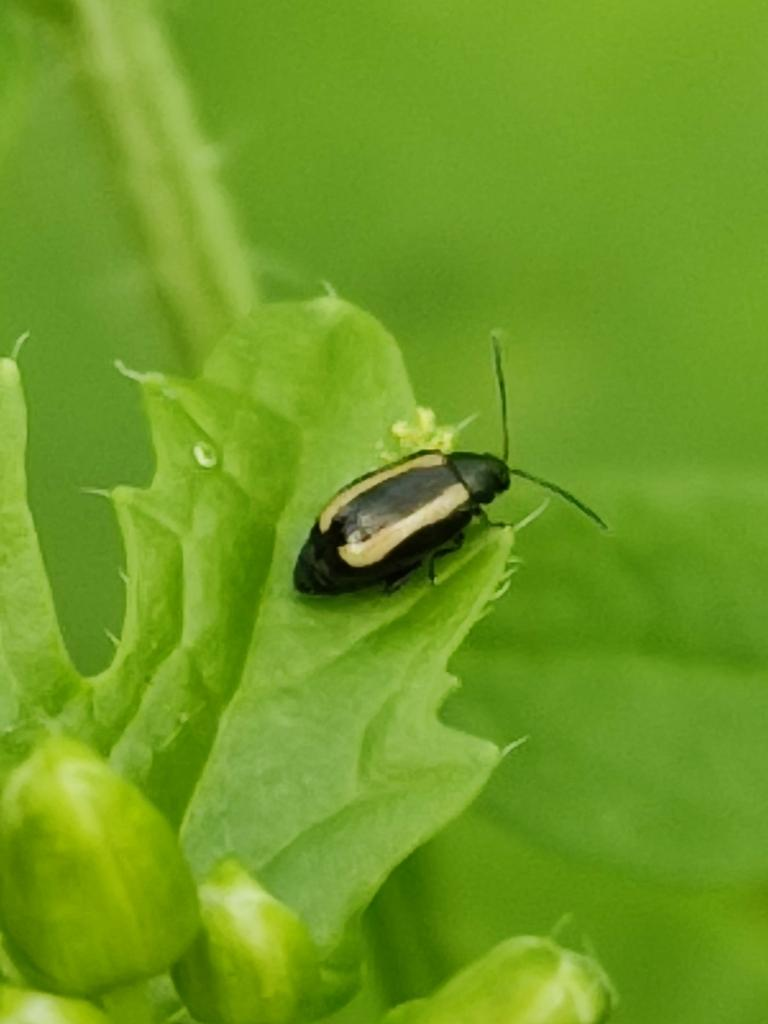flea_beetle: (245, 296, 662, 690)
